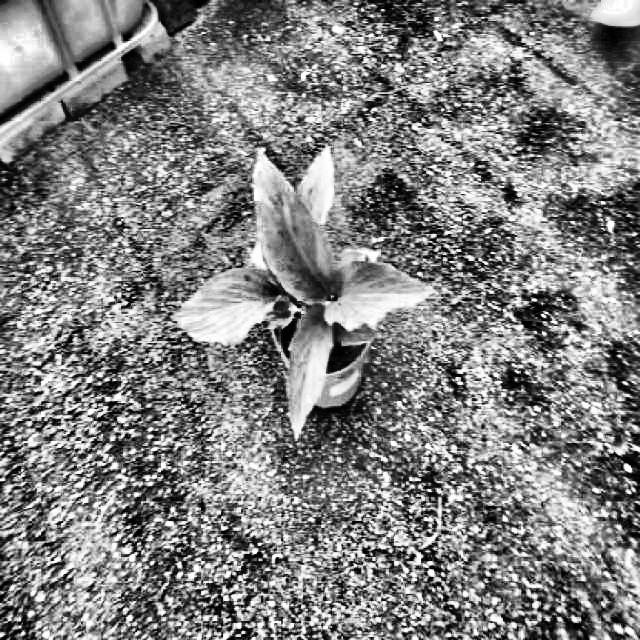plants: (175, 150, 431, 444)
